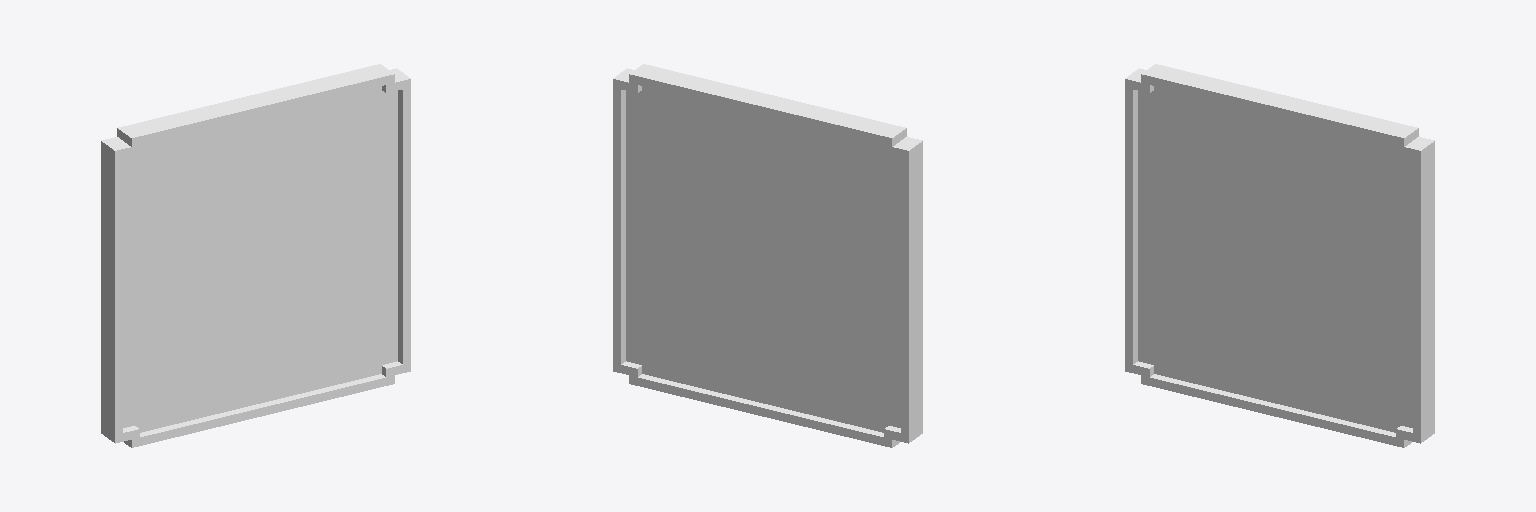
Rendered from MONEY2.obj.
3 views of the same model, side by side, from view 1: azimuth 30°, elevation 25°; view 2: azimuth 150°, elevation 25°; view 3: azimuth 330°, elevation 25° (orthographic).
Visible parts, largest first — view 1: object 1; view 2: object 1; view 3: object 1.
Part boxes in pixels (bbox=[...]): object 1: bbox=[101, 64, 410, 447]; object 1: bbox=[613, 64, 922, 447]; object 1: bbox=[1125, 64, 1434, 447].
Size of the model in its own units: 3.6 by 3.6 by 0.3.